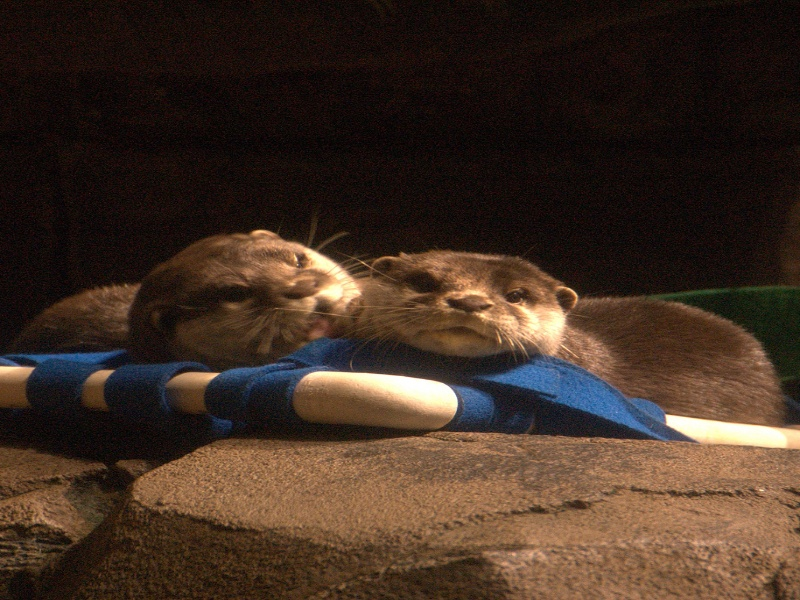minkish: (371, 255, 783, 446), (18, 228, 356, 381)
